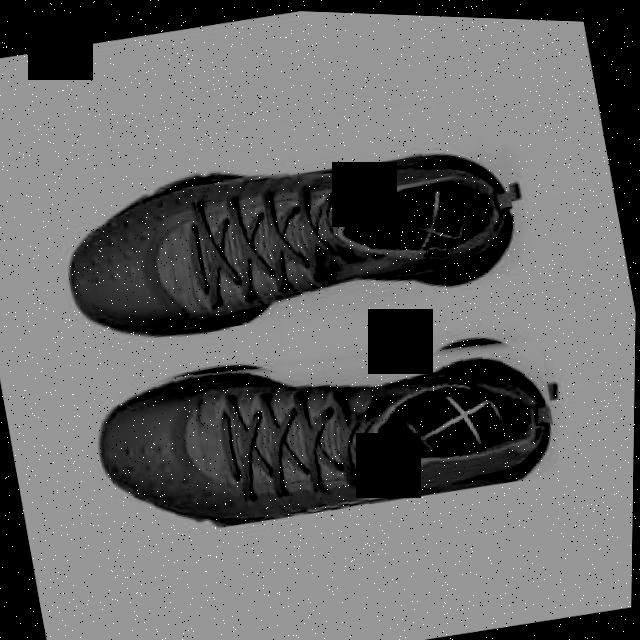shoe: (87, 298, 568, 556), (51, 106, 528, 362)
